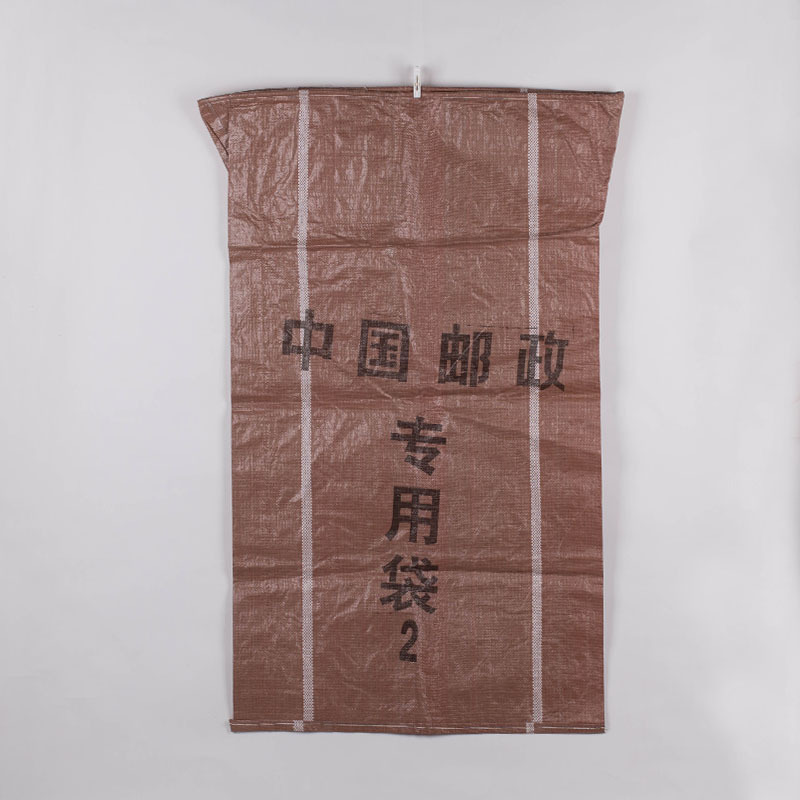塑料袋: (199, 88, 622, 734)
